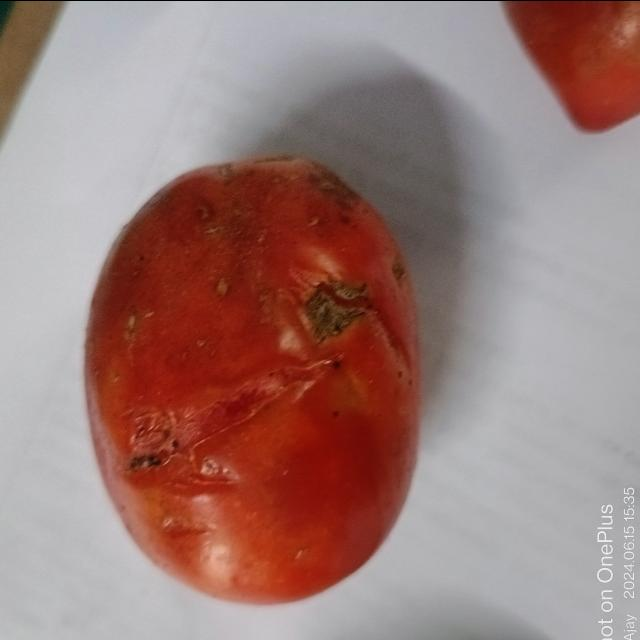Botrytis: (304, 276, 364, 341), (306, 173, 346, 207), (128, 438, 164, 474), (202, 453, 234, 491), (189, 190, 217, 225)
